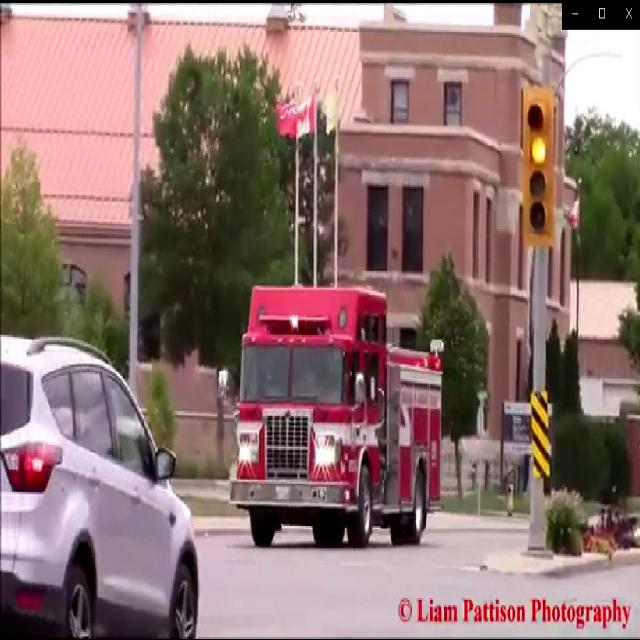emergency: (218, 285, 443, 550)
